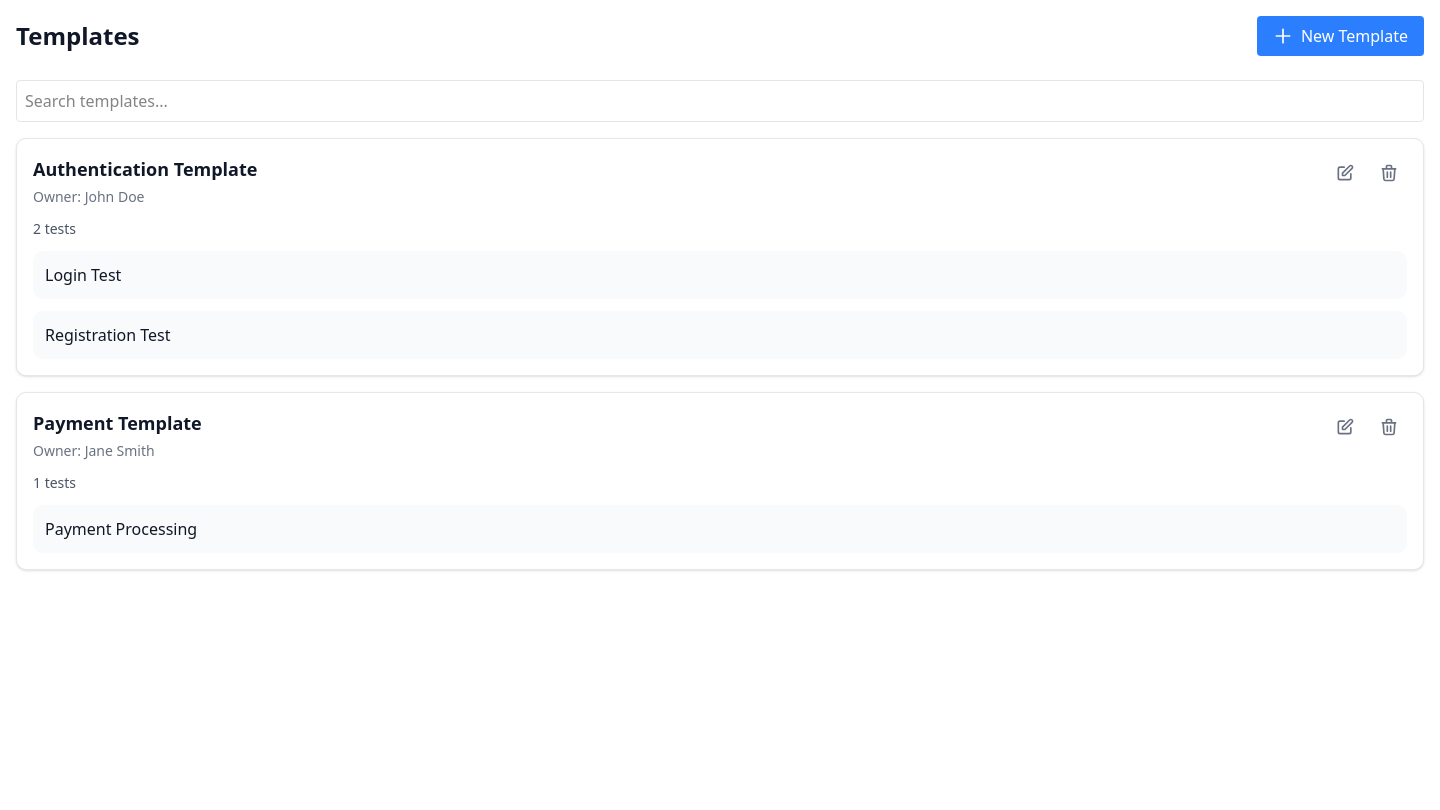
Test case: Templates Component › opens create template modal when clicking New Template button
The image size is (1440, 810).
Click the button "New Template" at (1340, 36), box [1257, 16, 1424, 56]
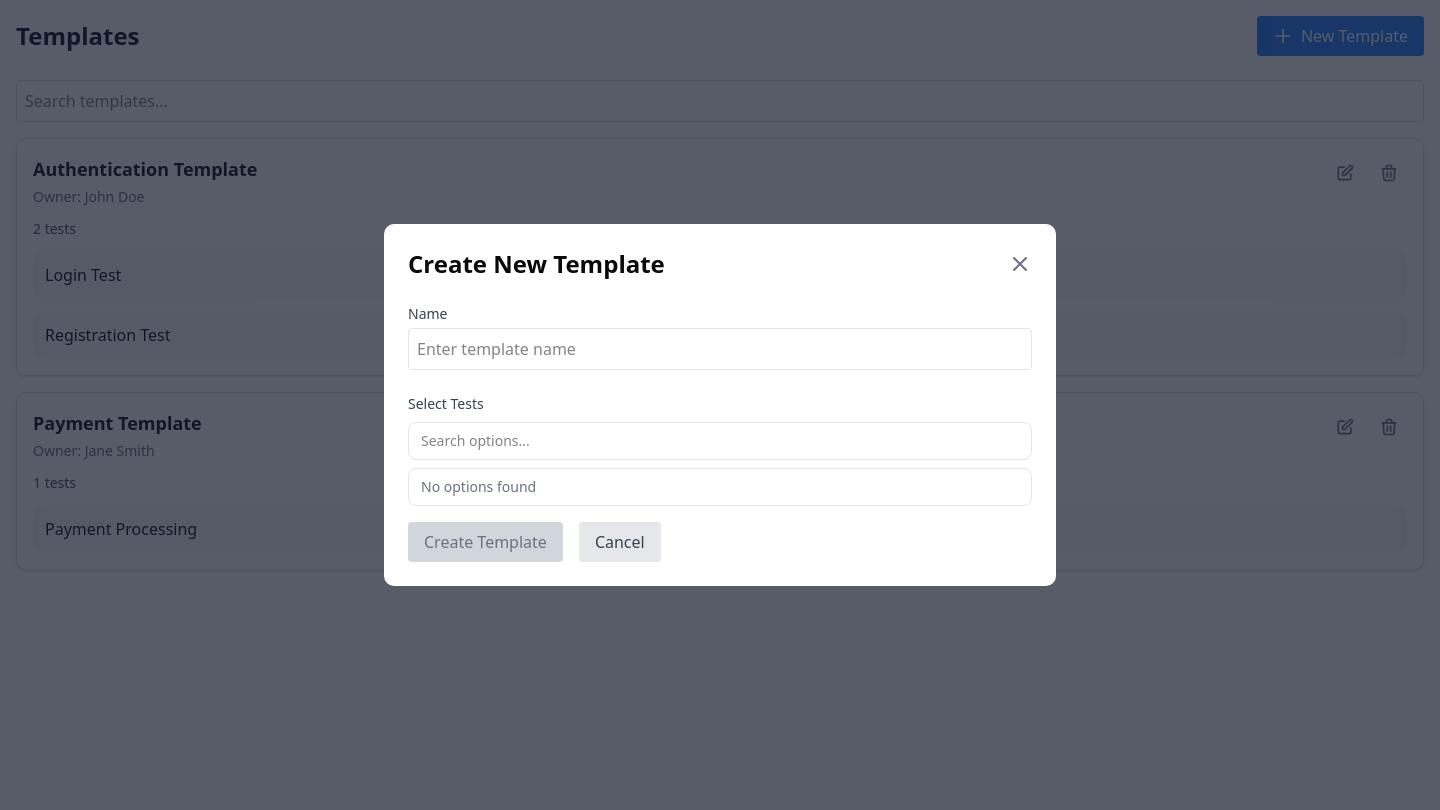
Check: the heading "Create New Template" is shown, box [408, 248, 665, 280]
